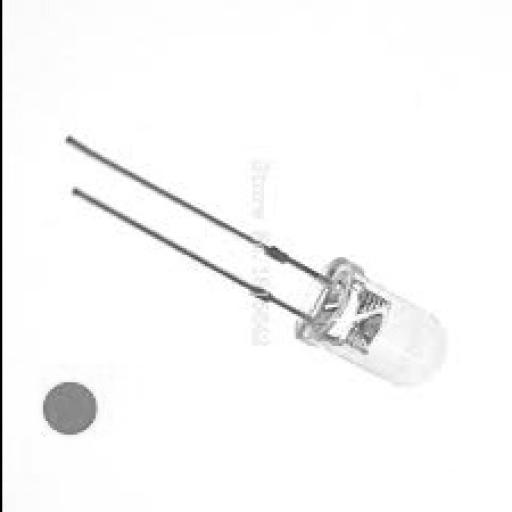LED: (64, 112, 500, 405)
